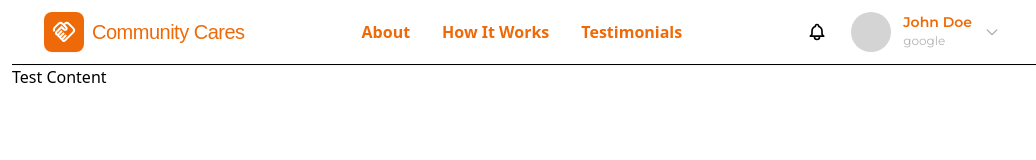
it: ClientLayout › User dropdown › should toggle user dropdown on click
Expected: the text "John Doe" is shown, [903, 15, 972, 29]
Expected: the text "Log out" is not shown
Note: Open dropdown
Click the button named "Toggle user menu" at (992, 32), box [980, 20, 1004, 44]
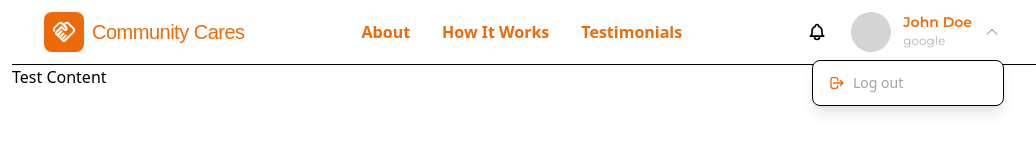
Now the text "Log out" is shown, box [853, 73, 903, 93]
Note: Close dropdown
Click the button named "Toggle user menu" at (992, 32), box [980, 20, 1004, 44]
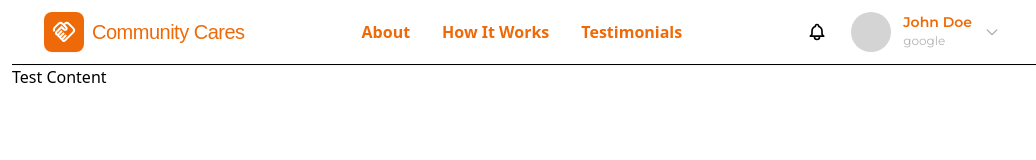
Now the button "Log out" is gone
